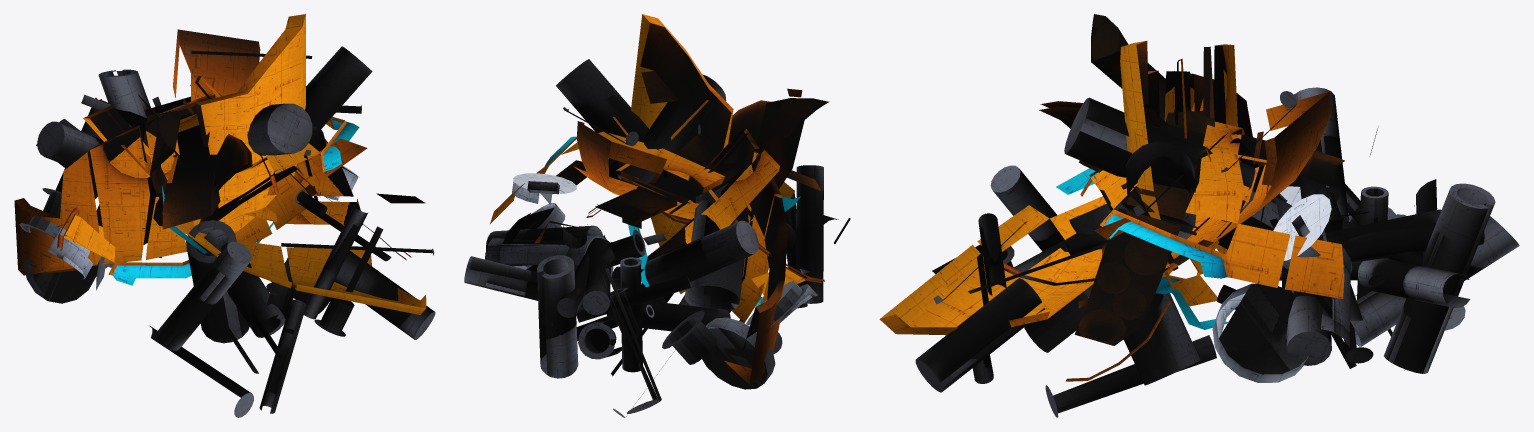
Rendered from MonsterA_die13.obj.
3 views of the same model, side by side, from view 1: azimuth 30°, elevation 25°; view 2: azimuth 150°, elevation 25°; view 3: azimuth 270°, elevation 25° (orthographic). The views are drawn at different scales.
Parts seen in each view (by area): view 1: Box001; view 2: Box001; view 3: Box001.
Boxes of the visible parts, box(x1,y1,x2,y2) form: Box001: box(14, 14, 435, 417); Box001: box(464, 14, 850, 417); Box001: box(879, 14, 1519, 417).
Size of the model in its own units: 238 by 250 by 338.
Materials: 1 (1 with a texture image).
